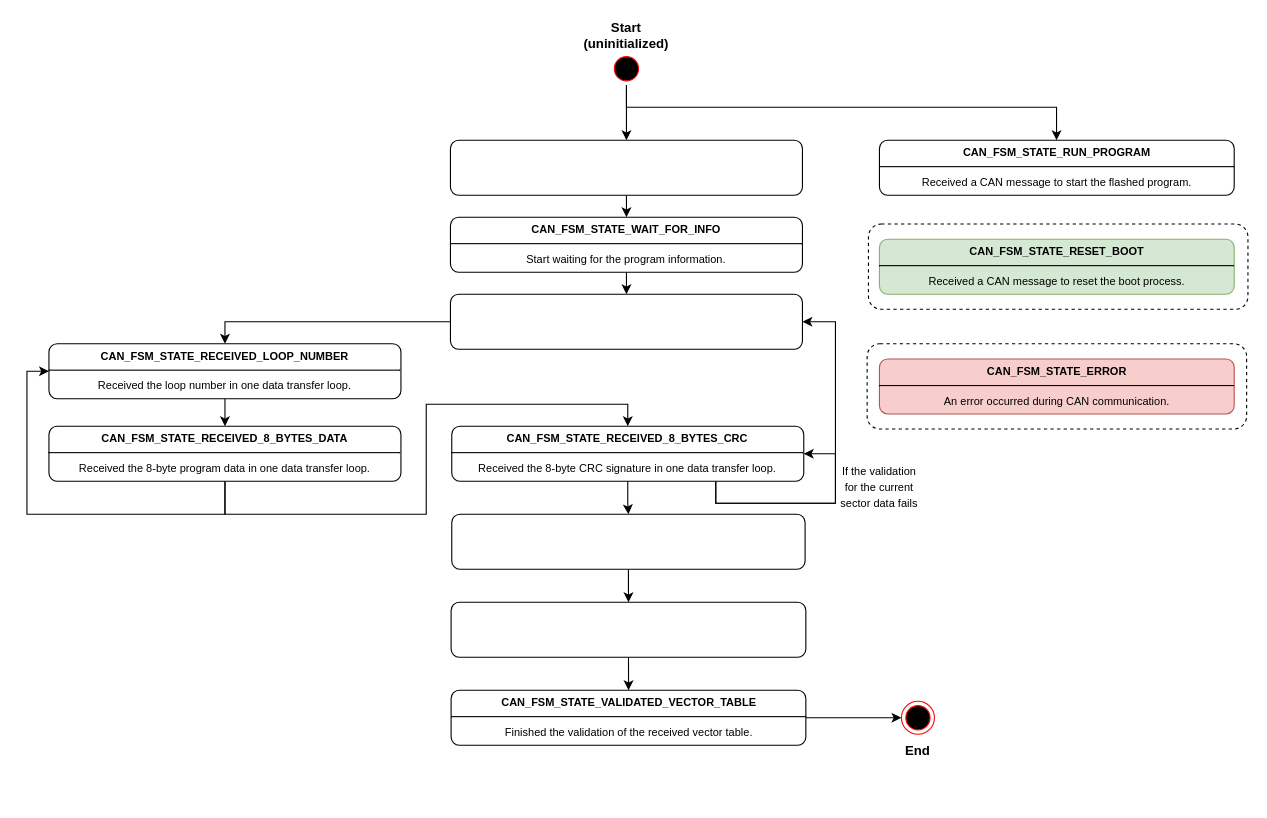
Image size: 1267x818. Some labels were removed from this diagram. Each missing label, with the centre of its shape:
CAN_FSM_STATE_FINISHED_FINAL_VALIDATION Validated the received program data.: point 628,541
CAN_FSM_STATE_FINISHED_TRANSFER_VECTOR_TABLE Received the vector table.: point 628,629
CAN_FSM_STATE_NO_COMMUNICATION No relevant CAN communication has ever occurred.: point 625,167
CAN_FSM_STATE_WAIT_FOR_DATA_LOOPS Start waiting for program data in loops.: point 625,321
